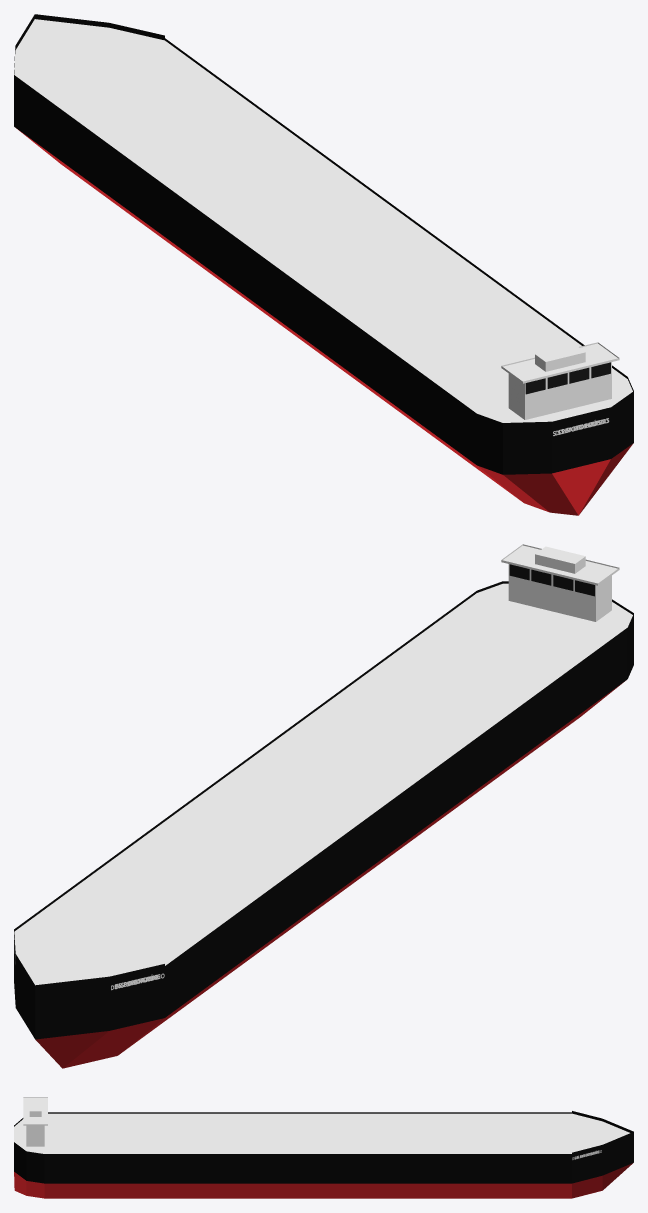
The model's file is kamsamax.glb.
3 views of the same model, one above another, from view 1: azimuth 30°, elevation 25°; view 2: azimuth 150°, elevation 25°; view 3: azimuth 270°, elevation 25° (orthographic). The views are drawn at different scales.
Parts seen in each view (by area): view 1: Boat; view 2: Boat; view 3: Boat.
Part boxes in pixels (x1=…): Boat: x1=14, y1=14, x2=633, y2=515; Boat: x1=14, y1=544, x2=633, y2=1068; Boat: x1=14, y1=1097, x2=633, y2=1198.
Bounding box in the file's own units: 32.01 × 30.2 × 200.
Materials: 9 (5 with a texture image).
